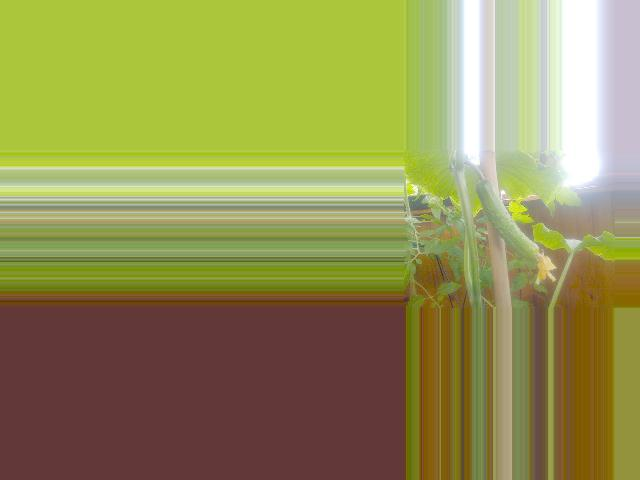cucumber: (476, 180, 557, 285)
